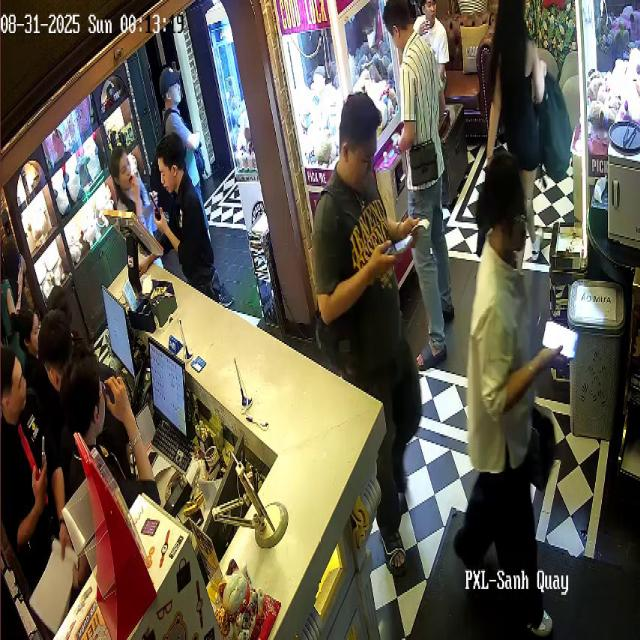khach: (455, 156, 581, 624), (317, 76, 422, 572), (380, 6, 458, 376), (490, 3, 555, 271), (158, 64, 216, 184), (107, 126, 161, 252), (420, 1, 453, 80), (1, 244, 25, 347)
nhan vien: (62, 363, 175, 554), (2, 341, 72, 595), (155, 134, 222, 300), (37, 302, 84, 510), (24, 307, 41, 366)
